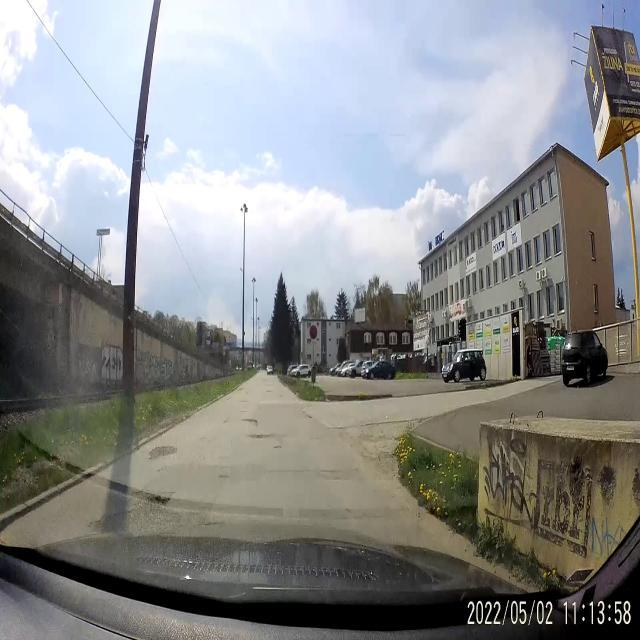Pothole: (136, 484, 172, 518), (150, 440, 178, 462), (248, 428, 274, 446), (242, 415, 262, 429)
